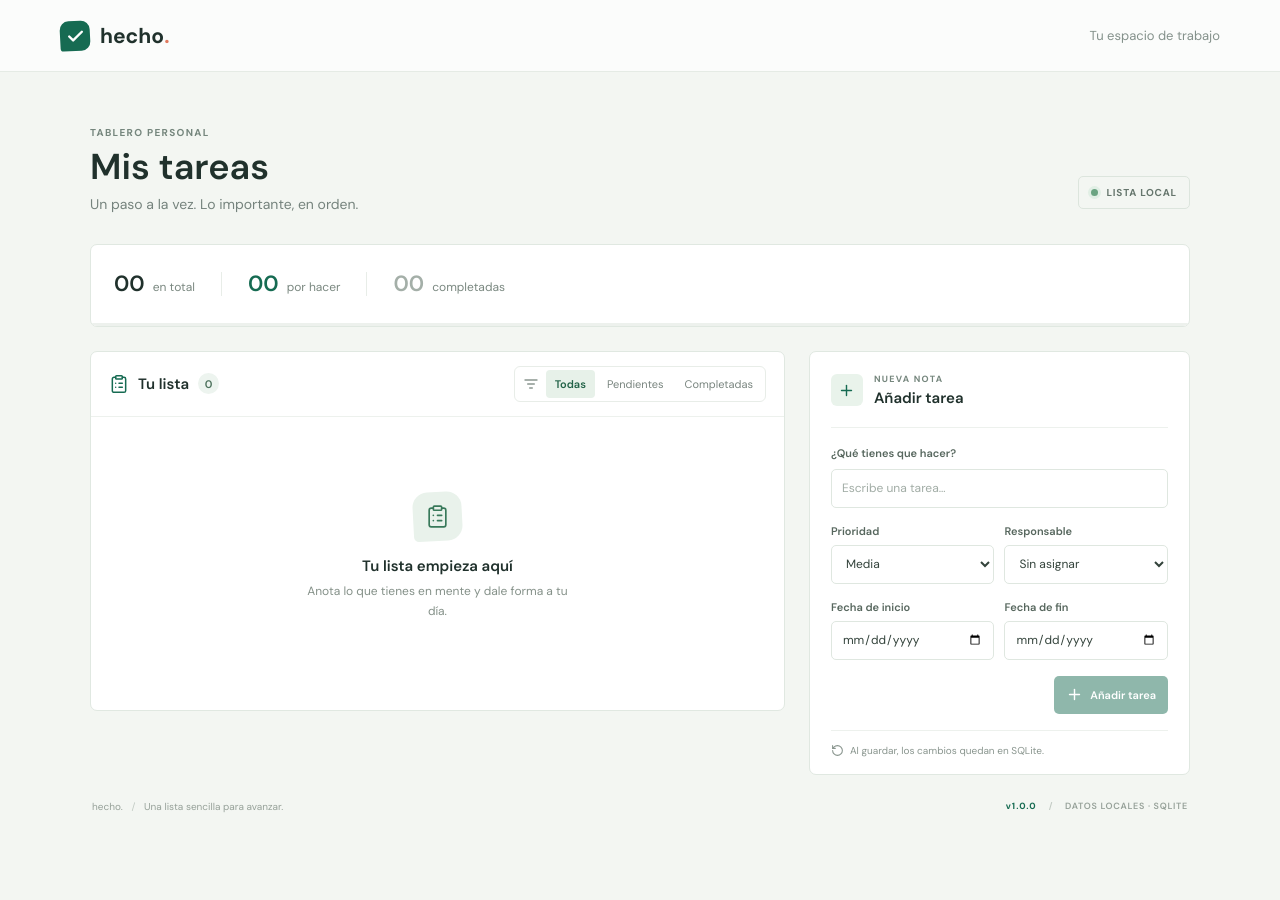
tablero de tareas › captura y muestra las fechas de calendario
Expected: the heading "Tu lista empieza aquí" is shown, [362, 556, 513, 576]
Type "Revisar fechas" into the field labelled "¿Qué tienes que hacer?" at (999, 488), box [831, 469, 1168, 508]
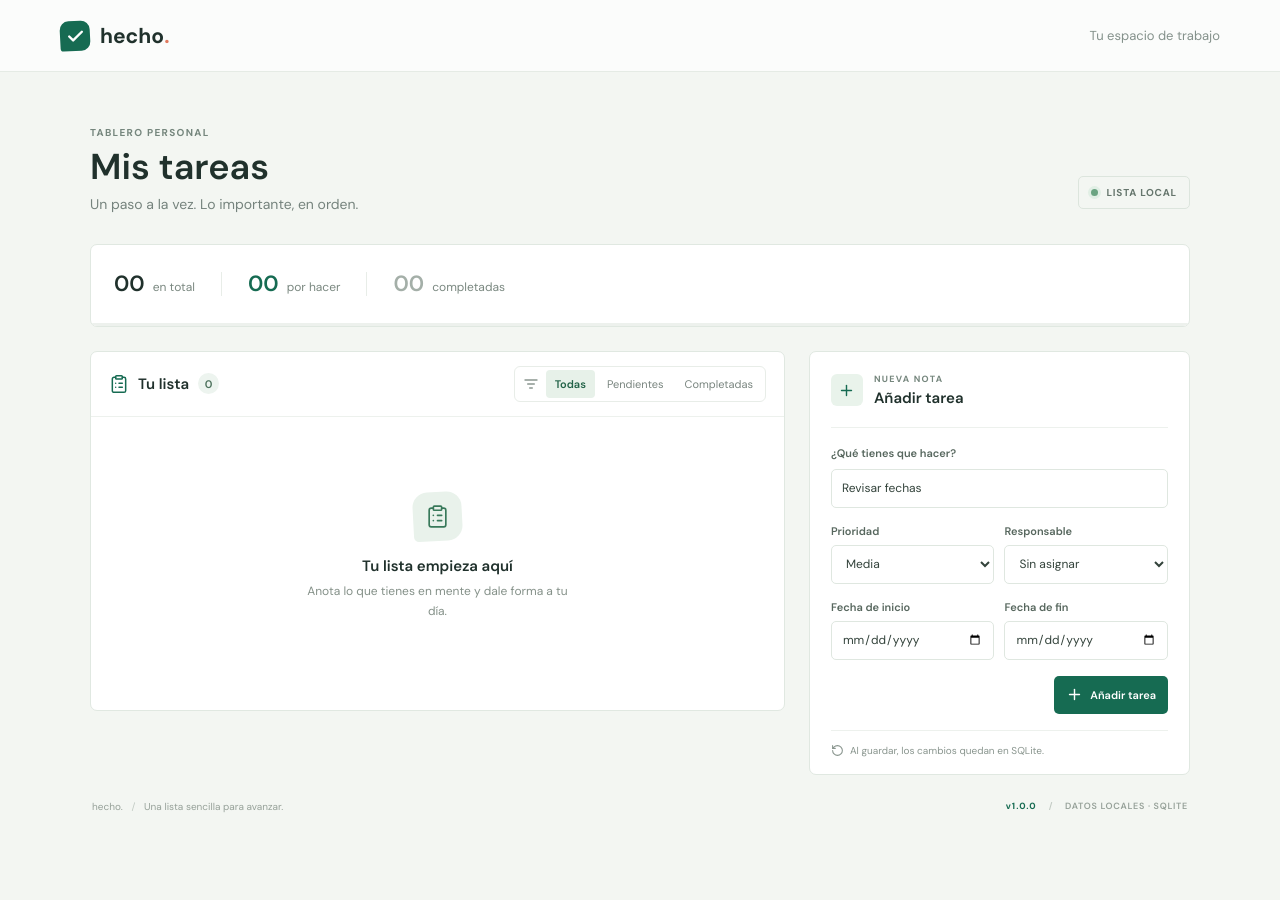
Type "2026-09-29" into the date field labelled "Fecha de inicio" at (913, 640), box [831, 621, 994, 660]
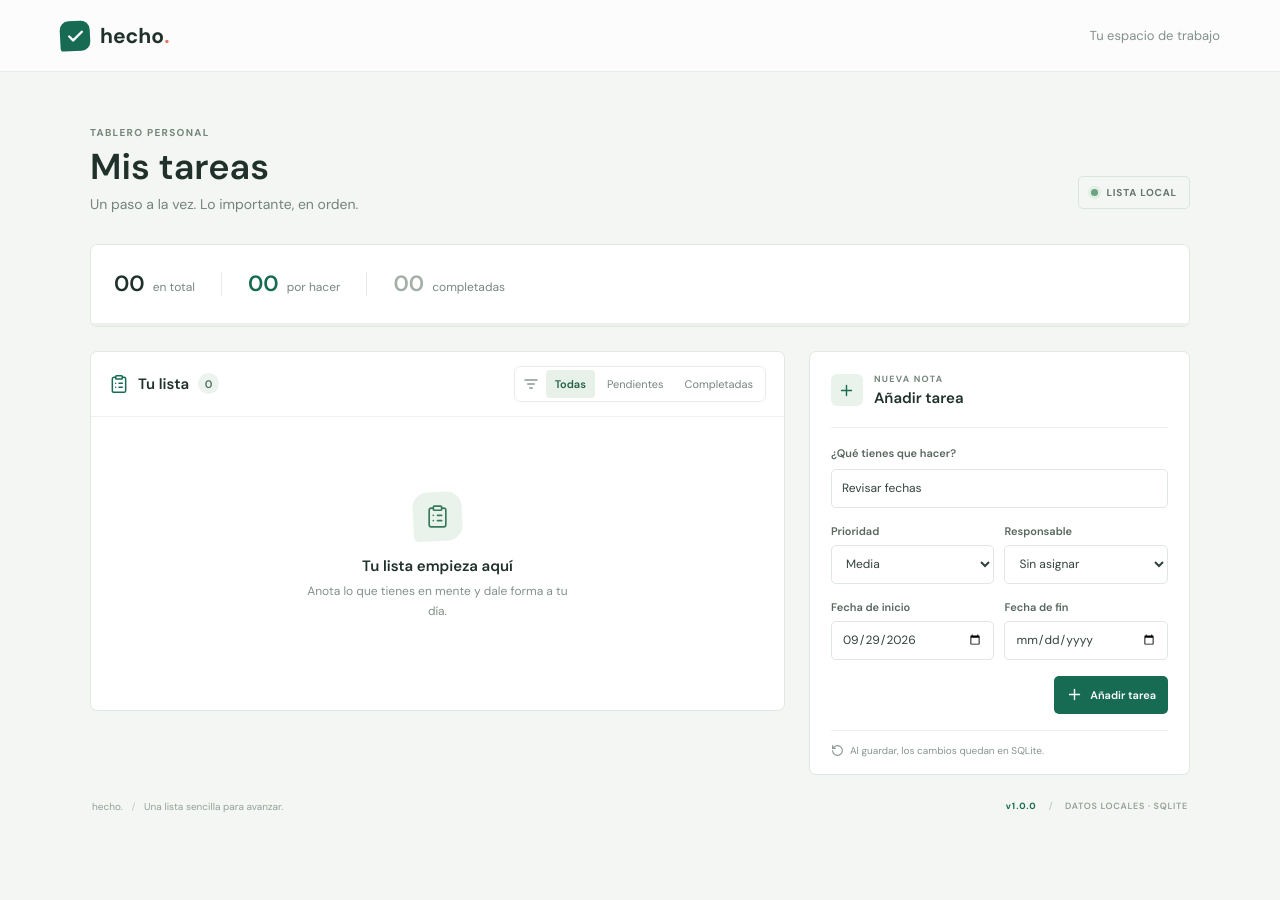
Type "2026-10-01" into the date field labelled "Fecha de fin" at (1086, 640), box [1004, 621, 1168, 660]
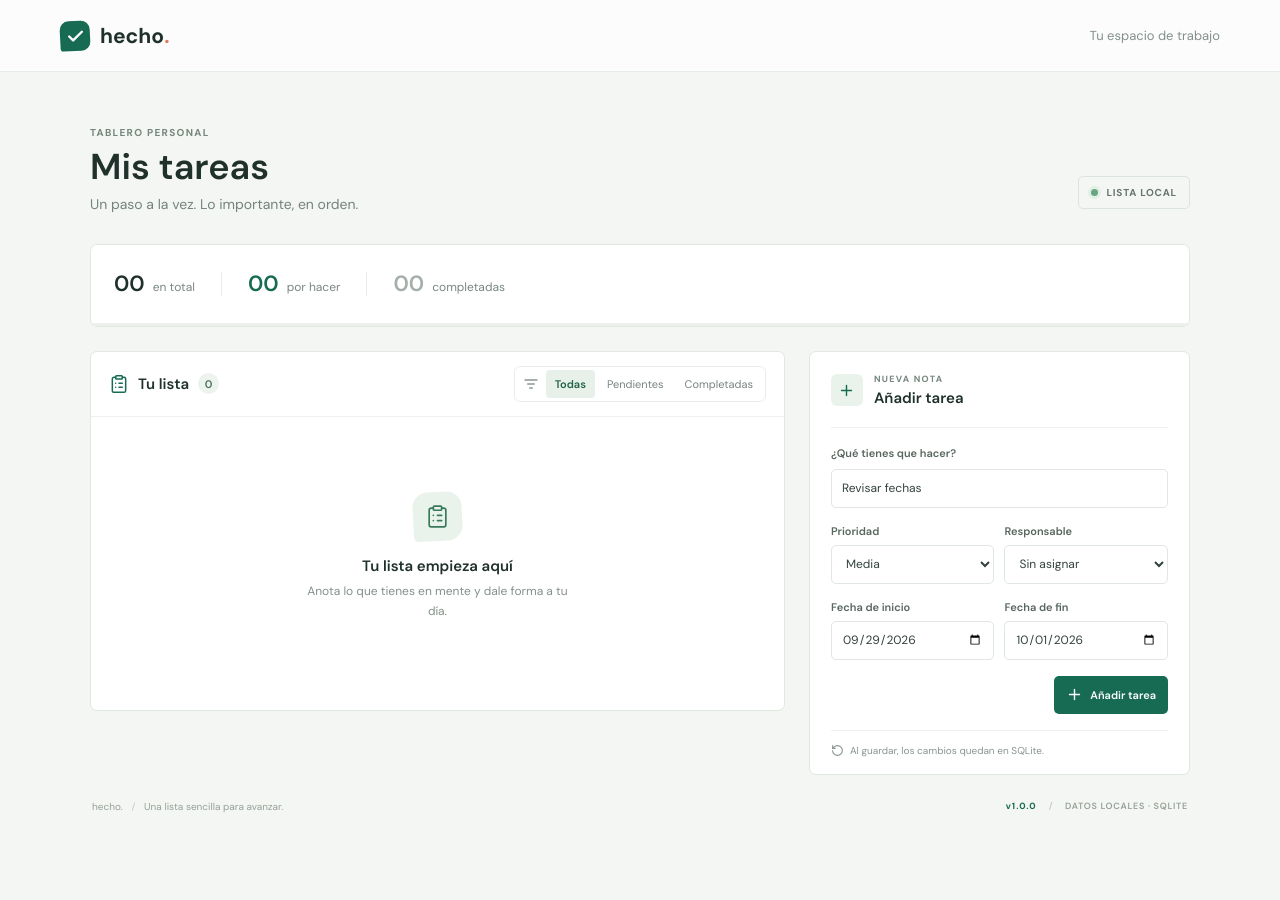
Click the button "Añadir tarea" at (1111, 695), box [1054, 676, 1168, 714]
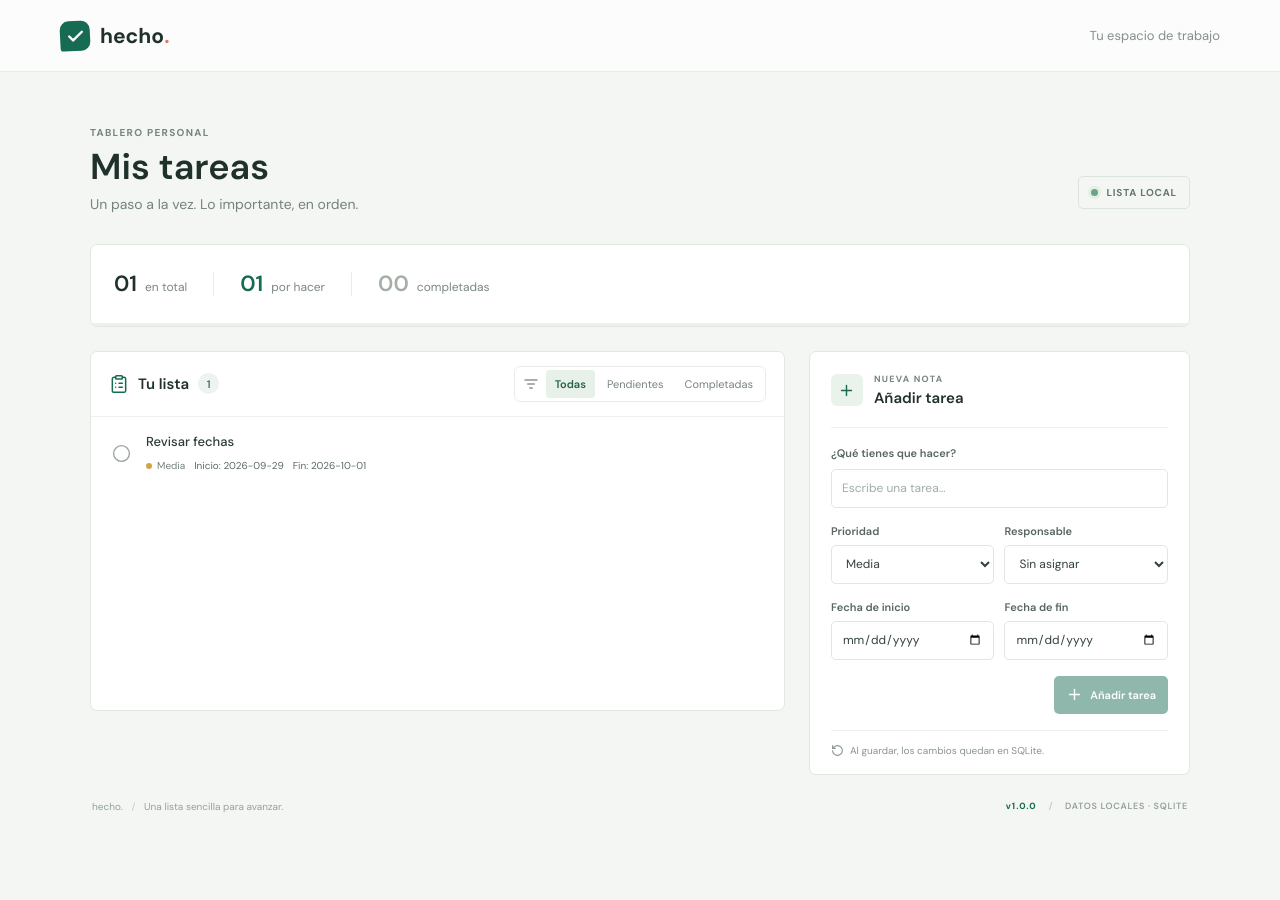
Result: the text "Inicio: 2026-09-29" is shown at [194, 459, 284, 472]
Result: the text "Fin: 2026-10-01" is shown at [293, 459, 366, 472]
